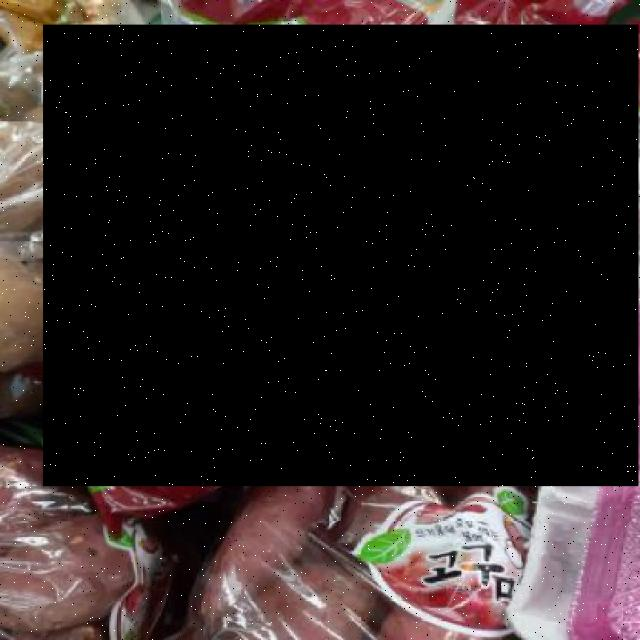Sweet_Potato: (43, 24, 639, 487)
